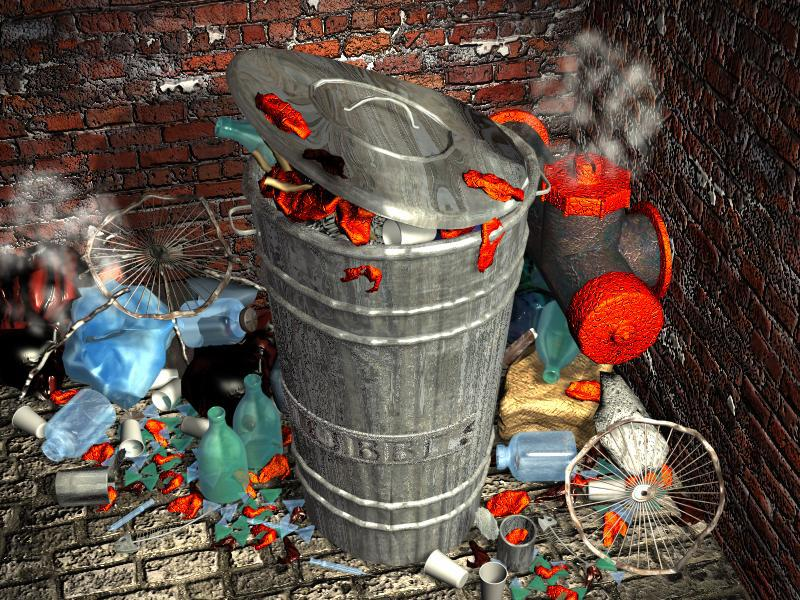Container: (250, 168, 535, 562), (233, 53, 545, 238)
Garbage: (54, 296, 295, 540), (518, 333, 573, 463)
